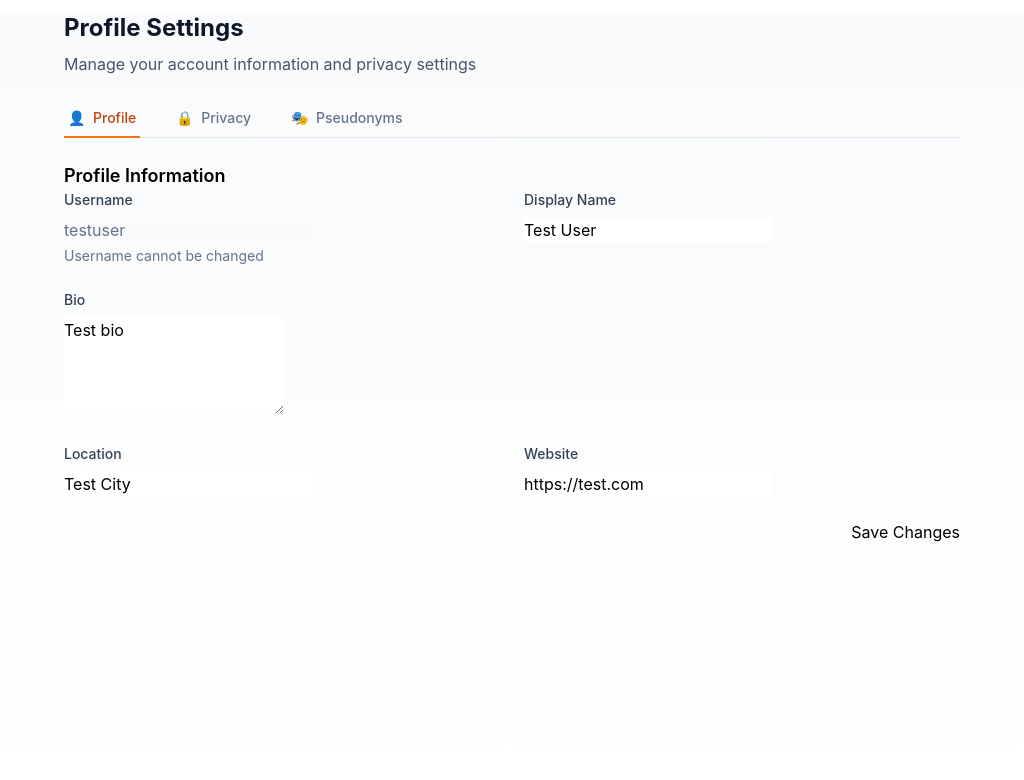
UserProfileSettings › handles update profile error
Expected: the field showing "Test User" below "Display Name" is shown, top-left (524, 218), bottom-right (772, 242)
Click the button "Save Changes" at (906, 532), box top-left (851, 520), bottom-right (960, 544)
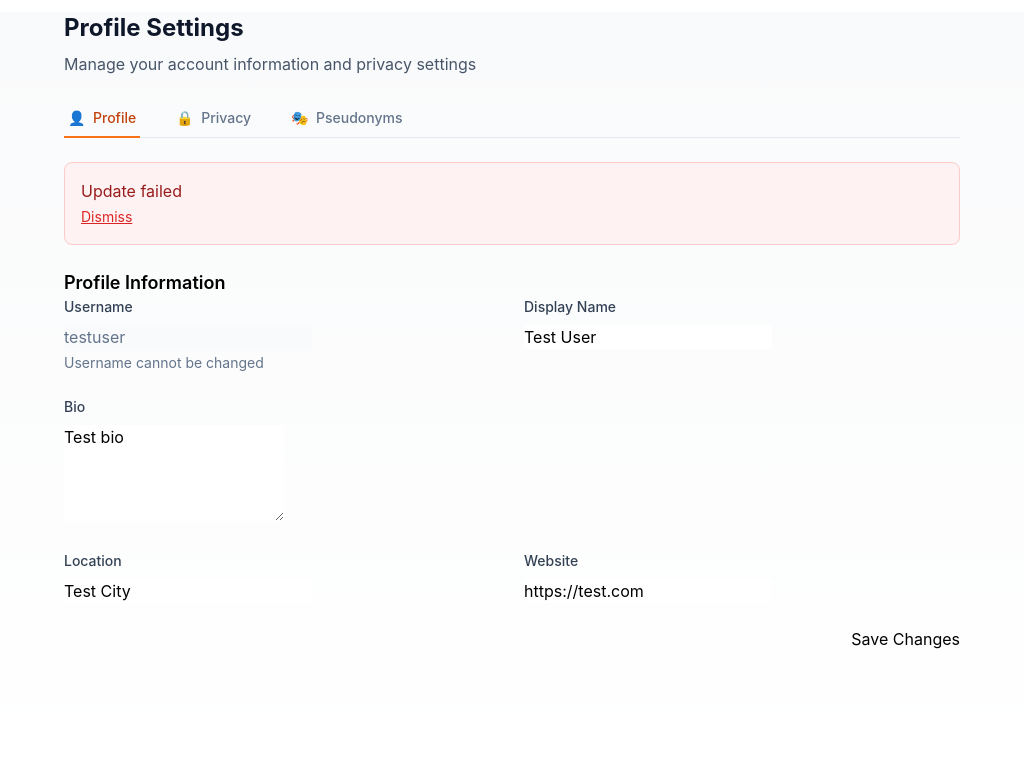
Expected: the text "Update failed" is shown, top-left (81, 181), bottom-right (182, 201)
